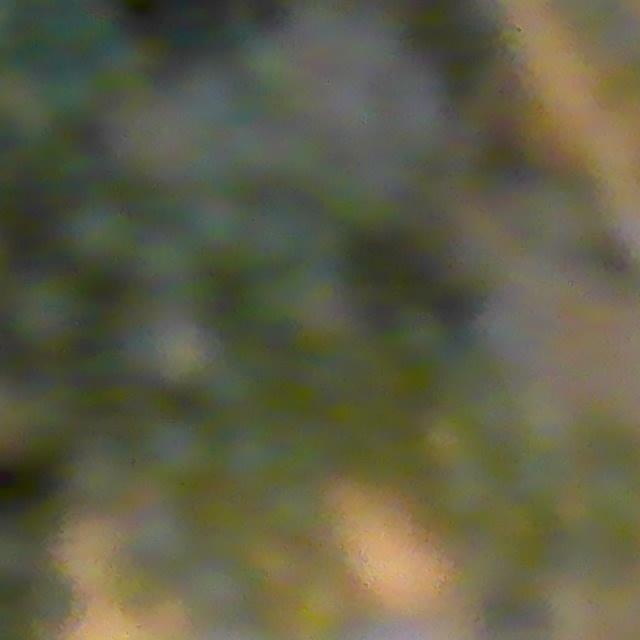SeaGrape: (9, 272, 87, 350), (61, 196, 137, 269), (55, 14, 136, 73)
